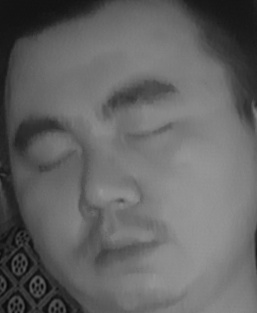blink: (129, 116, 174, 148), (36, 145, 80, 177)
mouth: (80, 220, 170, 280)
